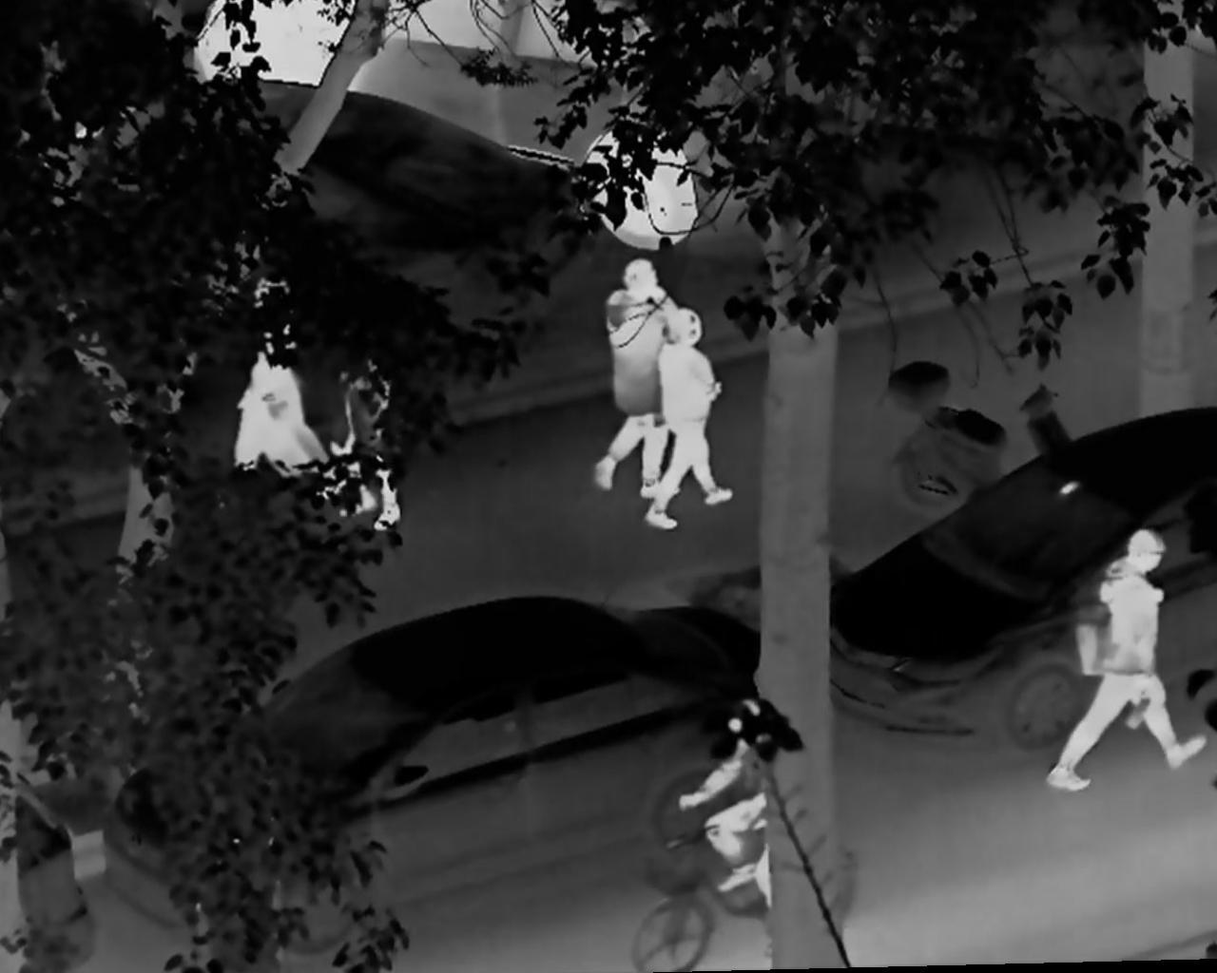person: (1047, 525, 1207, 796), (229, 270, 335, 506), (679, 692, 787, 921), (587, 258, 679, 501), (642, 307, 735, 531), (325, 335, 402, 541)
